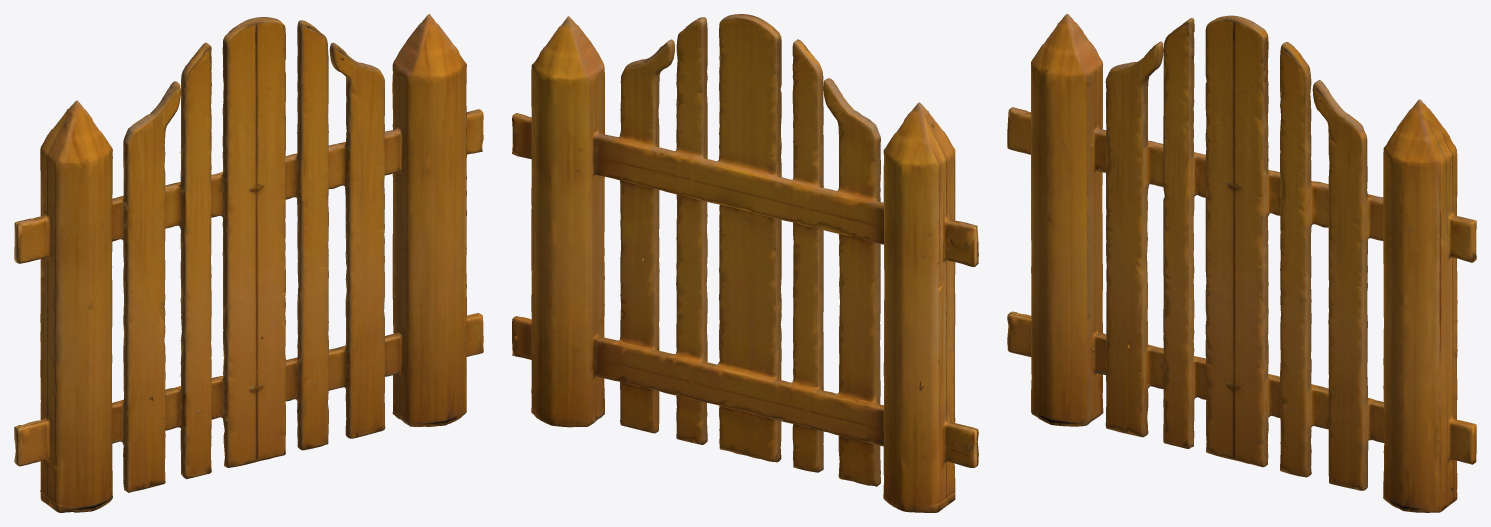
The model's file is gate_0801155422.fbx.
3 views of the same model, side by side, from view 1: azimuth 30°, elevation 25°; view 2: azimuth 150°, elevation 25°; view 3: azimuth 330°, elevation 25° (orthographic).
Parts seen in each view (by area): view 1: Mesh_0; view 2: Mesh_0; view 3: Mesh_0.
Boxes of the visible parts, x1,y1,x2,y2 form: Mesh_0: (14,14,483,512); Mesh_0: (512,14,978,512); Mesh_0: (1007,14,1476,512).
Size of the model in its own units: 200 by 181 by 25.1.
Materials: 1 (1 with a texture image).
